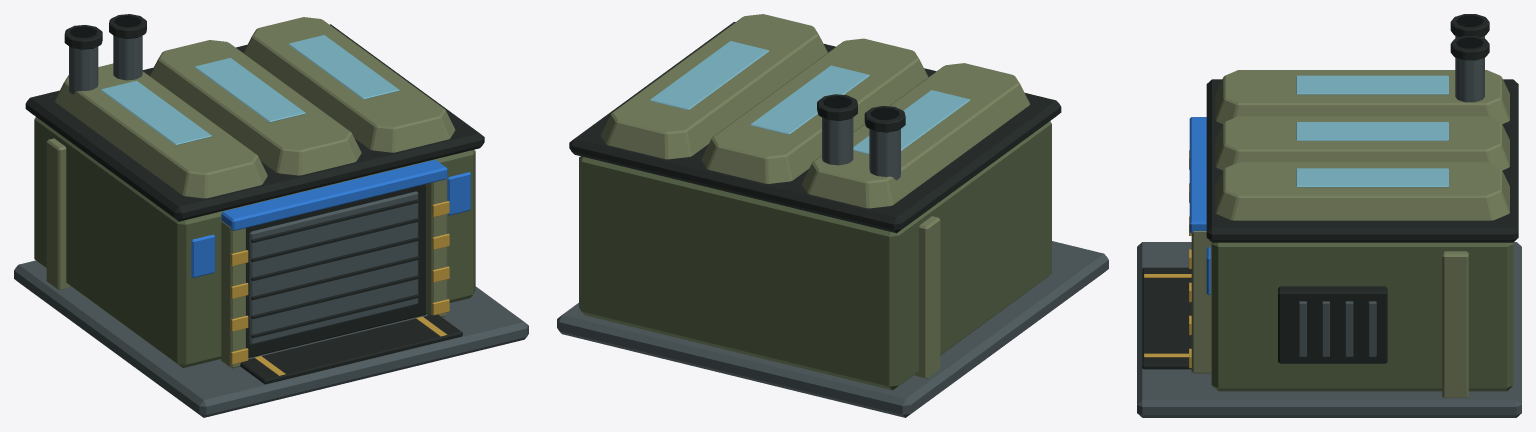
The model's file is h_factory.glb.
The picture shows the model from 3 angles, left to right: view 1: azimuth 30°, elevation 25°; view 2: azimuth 150°, elevation 25°; view 3: azimuth 270°, elevation 25°; orthographic projection. The views are drawn at different scales.
Visible parts, largest first — view 1: Factory; view 2: Factory; view 3: Factory.
Part boxes in pixels (x1,y1,x2,y2): Factory: [14, 14, 528, 417]; Factory: [557, 14, 1108, 417]; Factory: [1137, 14, 1521, 417].
Bounding box in the file's own units: 5.8 × 4.32 × 5.8.
